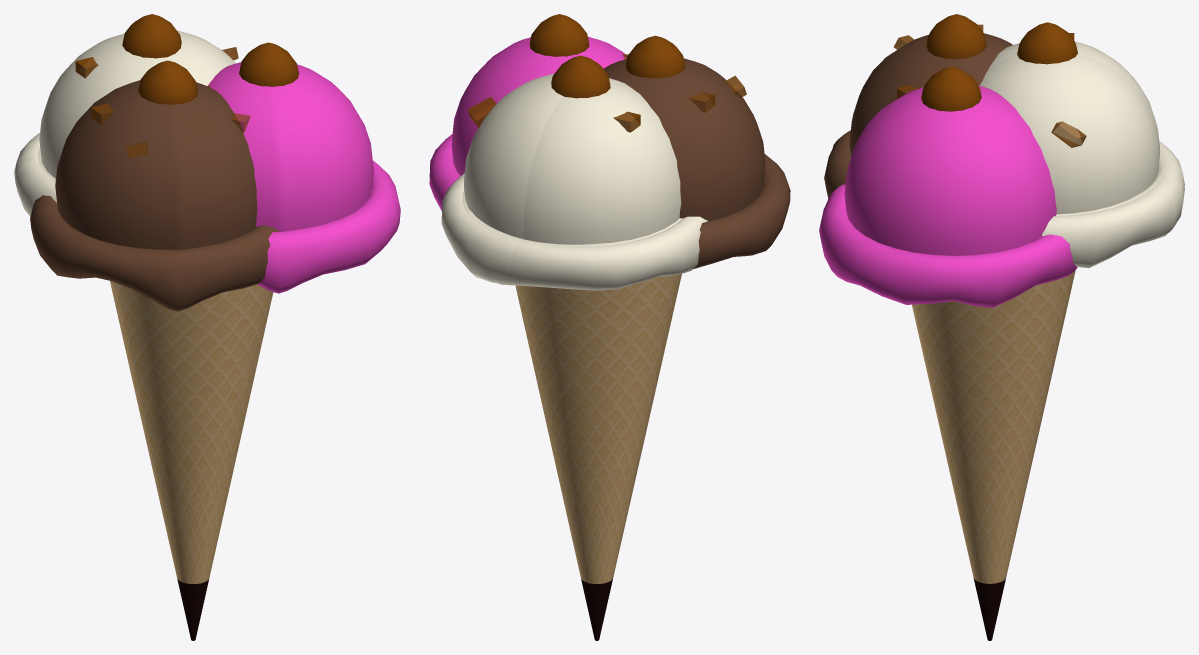
The model's file is 1773580899_cus.glb.
3 views of the same model, side by side, from view 1: azimuth 30°, elevation 25°; view 2: azimuth 150°, elevation 25°; view 3: azimuth 270°, elevation 25° (orthographic).
Visible parts, largest first — view 1: Sphere001_03 - Default_0.002, Cone001, Sphere001_03 - Default_0.003, Sphere001_03 - Default_0, Sphere002_08 - Default_0.003, Sphere002_08 - Default_0.002, Sphere002, Sphere001_03 - Default_0.001; view 2: Cone001, Sphere001_03 - Default_0, Sphere001_03 - Default_0.002, Sphere001_03 - Default_0.001, Sphere001_03 - Default_0.003, Sphere002_08 - Default_0.002, Sphere002_08 - Default_0.003, Sphere002; view 3: Sphere001_03 - Default_0.003, Cone001, Sphere001_03 - Default_0.001, Sphere001_03 - Default_0.002, Sphere002_08 - Default_0.002, Sphere002_08 - Default_0.003, Sphere001_03 - Default_0, Sphere002, Box004_09 - Default_0.003.
Boxes of the visible parts, box(x1,y1,x2,y2) form: Sphere001_03 - Default_0.002: box(30, 80, 279, 311); Cone001: box(110, 281, 273, 640); Sphere001_03 - Default_0.003: box(208, 62, 400, 293); Sphere001_03 - Default_0: box(14, 33, 172, 216); Sphere002_08 - Default_0.003: box(239, 42, 298, 86); Sphere002_08 - Default_0.002: box(138, 60, 198, 104); Sphere002: box(122, 14, 181, 58); Sphere001_03 - Default_0.001: box(38, 30, 235, 181); Cone001: box(515, 274, 681, 640); Sphere001_03 - Default_0: box(462, 78, 707, 290); Sphere001_03 - Default_0.002: box(604, 58, 790, 268); Sphere001_03 - Default_0.001: box(441, 73, 681, 282); Sphere001_03 - Default_0.003: box(429, 36, 626, 210); Sphere002_08 - Default_0.002: box(625, 35, 685, 78); Sphere002_08 - Default_0.003: box(529, 14, 589, 56); Sphere002: box(551, 55, 610, 98); Sphere001_03 - Default_0.003: box(819, 85, 1077, 307); Cone001: box(912, 270, 1075, 640); Sphere001_03 - Default_0.001: box(979, 54, 1184, 268); Sphere001_03 - Default_0.002: box(824, 33, 1012, 197); Sphere002_08 - Default_0.002: box(926, 14, 986, 59); Sphere002_08 - Default_0.003: box(921, 66, 981, 111); Sphere001_03 - Default_0: box(989, 41, 1184, 215); Sphere002: box(1017, 22, 1077, 64); Box004_09 - Default_0.003: box(1051, 121, 1086, 147).
Bounding box in the file's own units: 61.72 × 108 × 58.72.
Materials: 14 (1 with a texture image).
